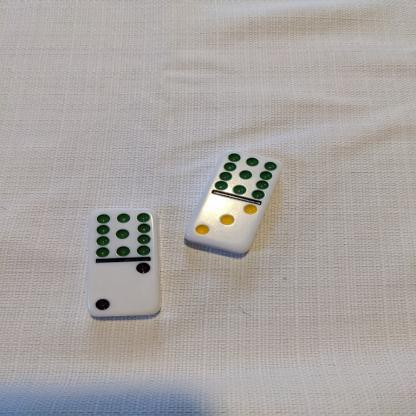pip-11: (210, 148, 282, 200), (88, 210, 155, 258)
pip-2: (88, 258, 161, 316)
pip-3: (183, 199, 260, 254)
